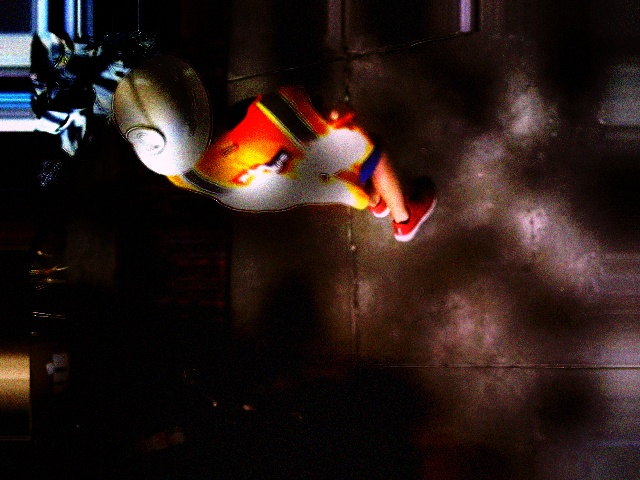two: (124, 127, 165, 157)
